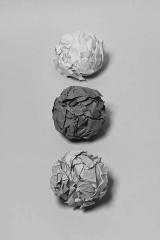paper: (50, 149, 109, 209), (52, 85, 106, 141), (53, 31, 105, 81)
